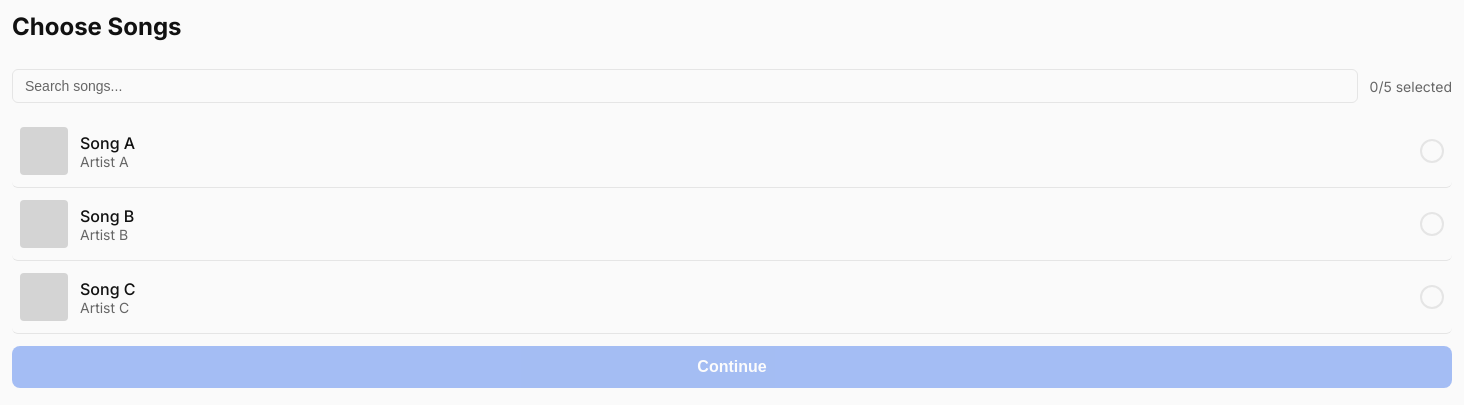
CreatePage › shows correct selection count
The image size is (1464, 405).
Expected: the text "Song A" is shown, [80, 132, 135, 152]
Expected: the text "0/5 selected" is shown, [1370, 78, 1452, 94]
Click the text "Song A" at (732, 152), box [12, 115, 1452, 188]
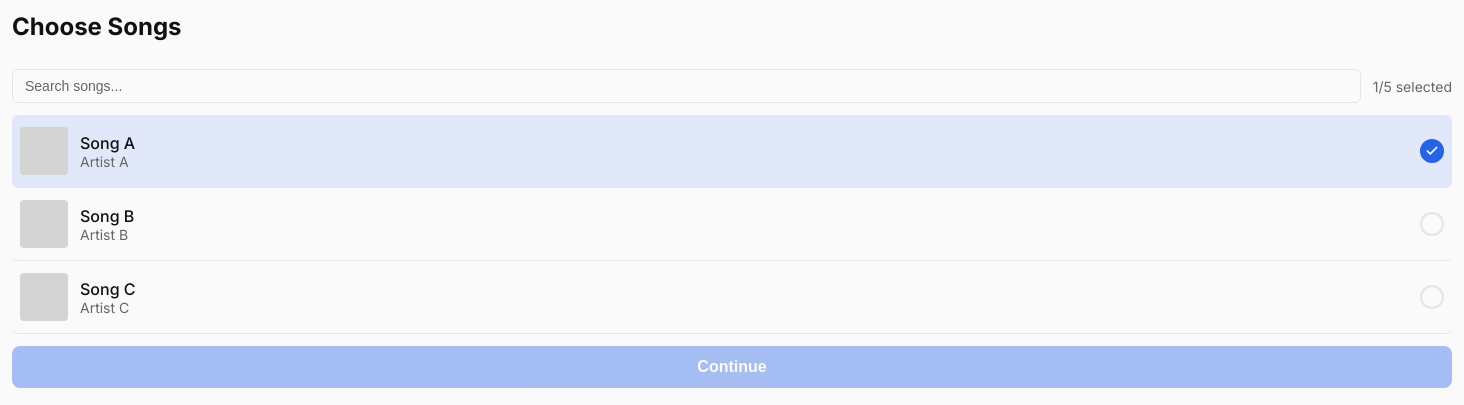
Now the text "1/5 selected" is shown, box [1373, 78, 1452, 94]
Click the text "Song B" at (732, 224), box [12, 188, 1452, 261]
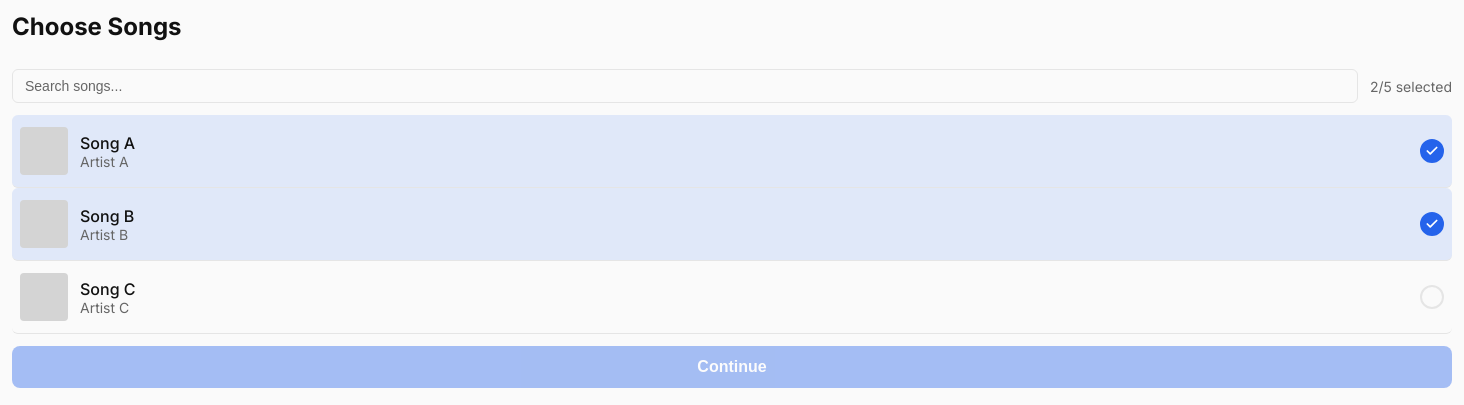
Now the text "2/5 selected" is shown, box [1370, 78, 1452, 94]
